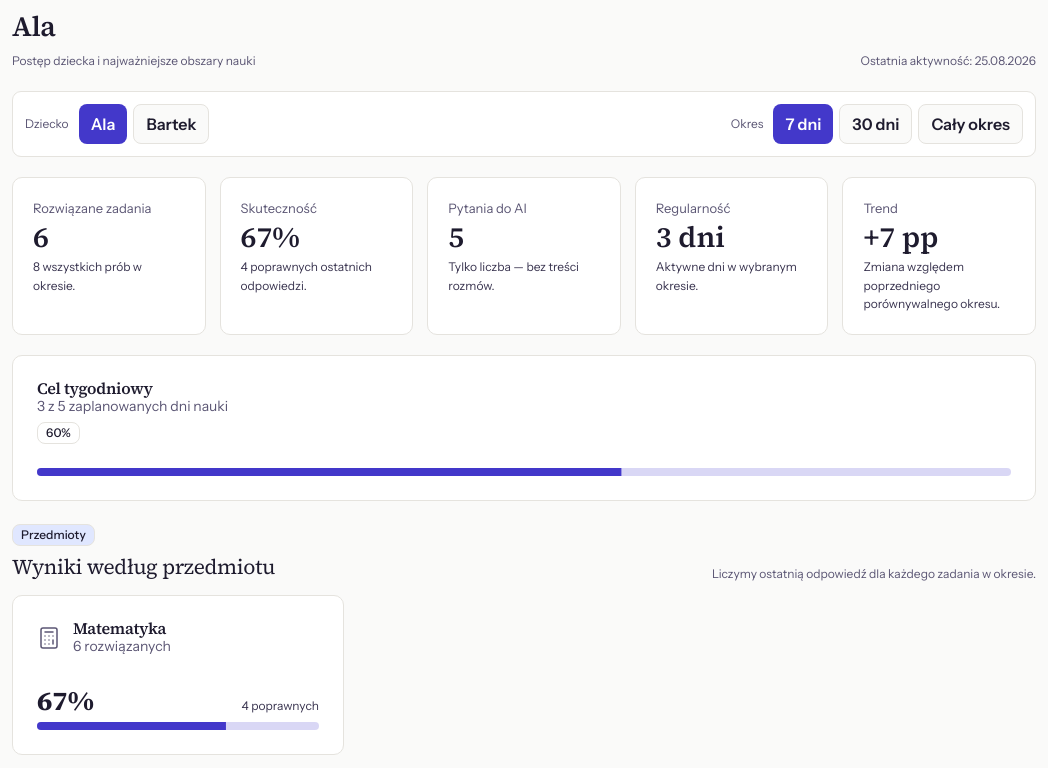
Test: ParentProgress › loads the first child and switches children without mixing requests
expect the heading "Wyniki według przedmiotu" is shown: met, box [12, 551, 275, 583]
Step 1. Click the button "Bartek" → (171, 124), box [134, 104, 209, 144]
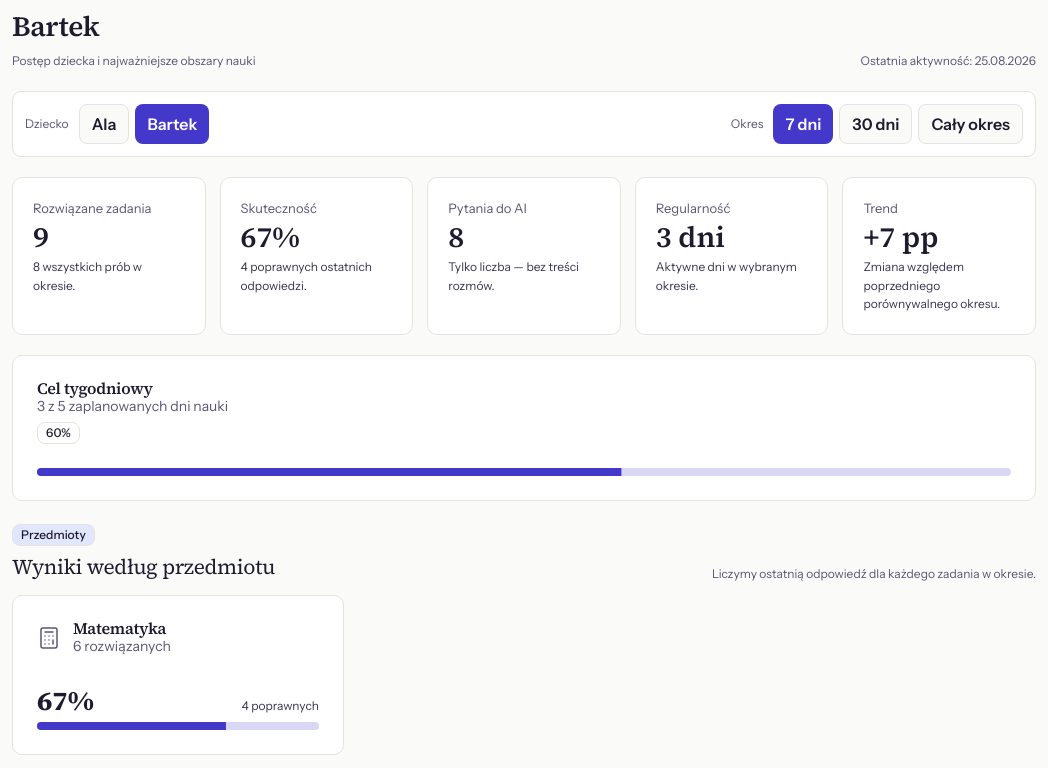
expect the heading "Bartek" is shown: met, box [12, 7, 99, 45]
